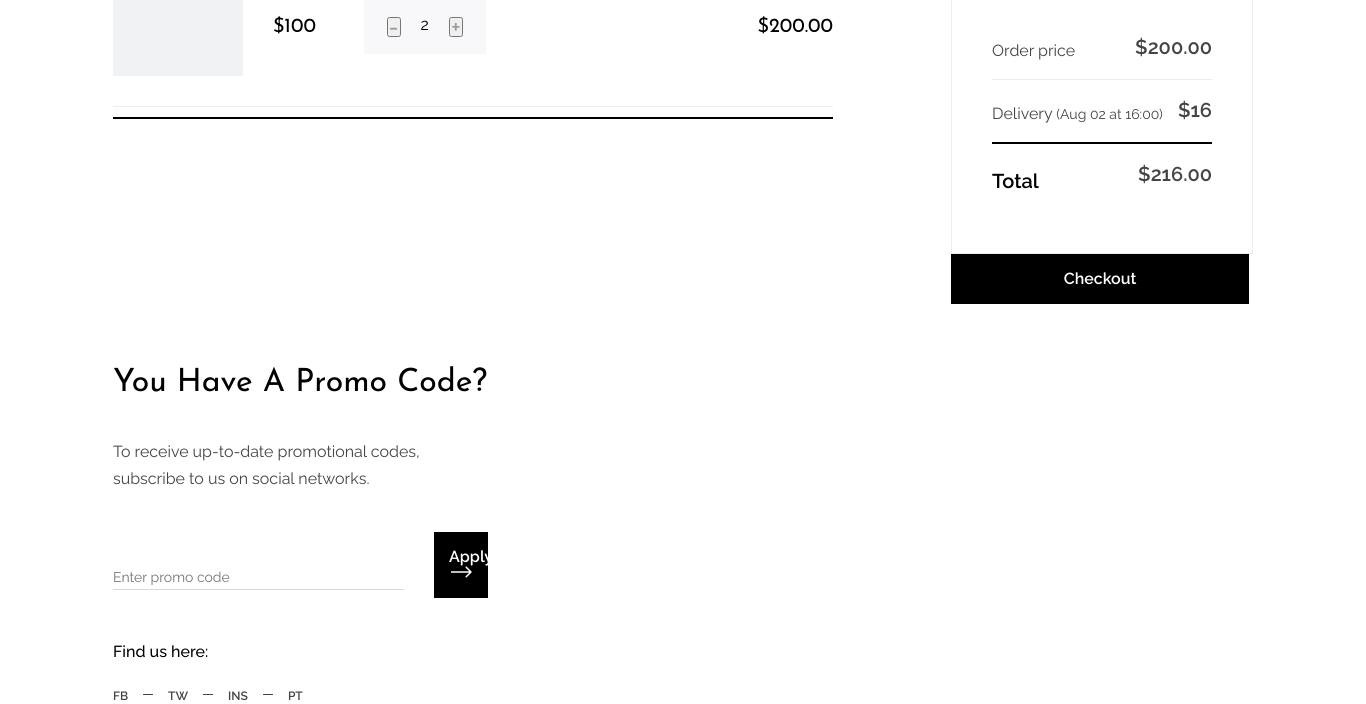
Test: Promo code check › no double promo code check
The width and height of the screenshot is (1366, 704).
(page scrolled)
Type "ilovereact" into the field with placeholder "Enter promo code" at coordinates (258, 565), box [113, 540, 404, 590]
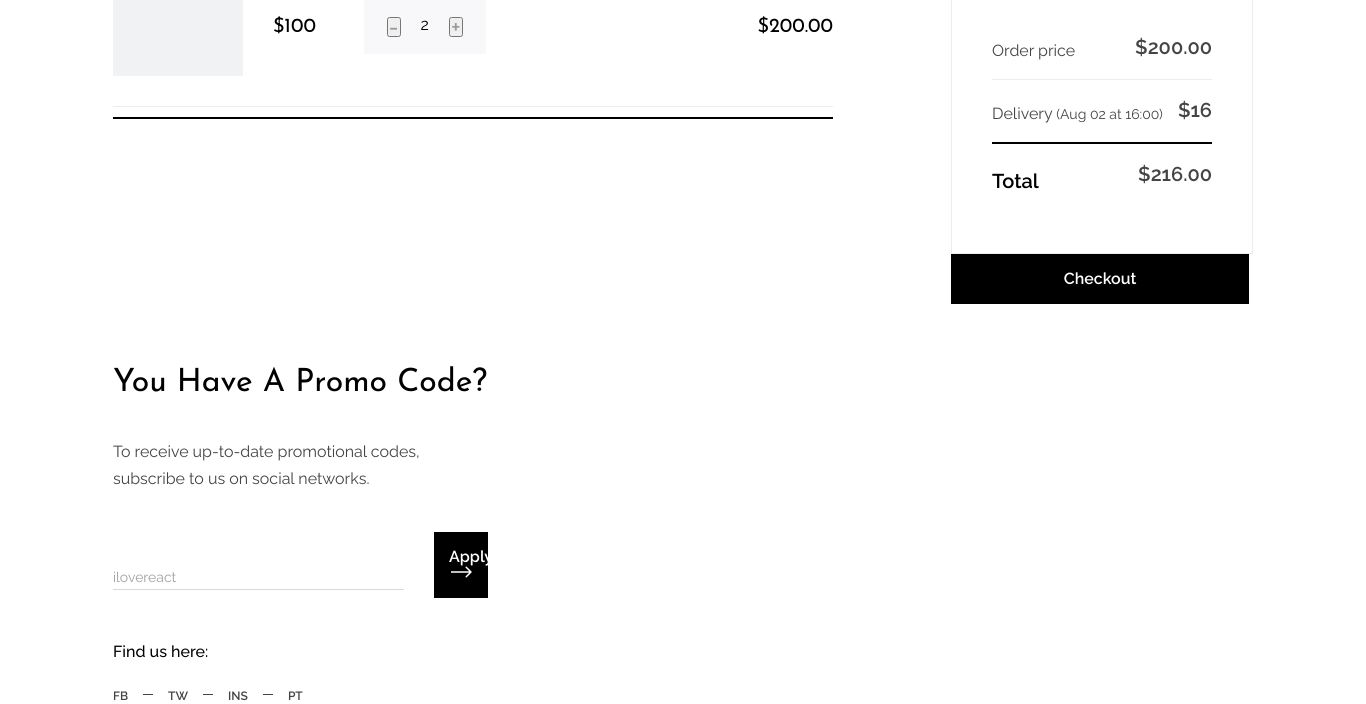
Click the button "Apply" at coordinates (461, 565), box [434, 532, 488, 598]
(page scrolled)
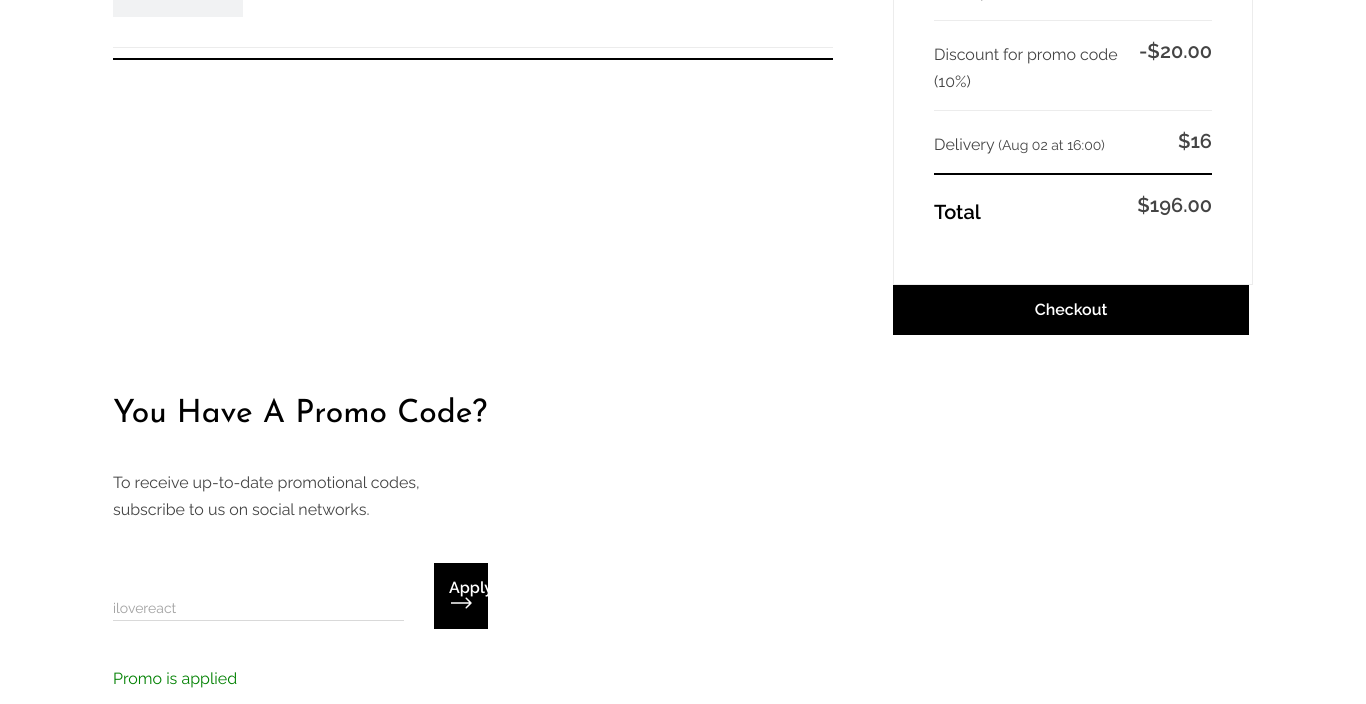
Expected: the text "Promo is applied" is shown, [113, 669, 237, 688]
Click the button "Apply" at coordinates (461, 596), box [434, 563, 488, 629]
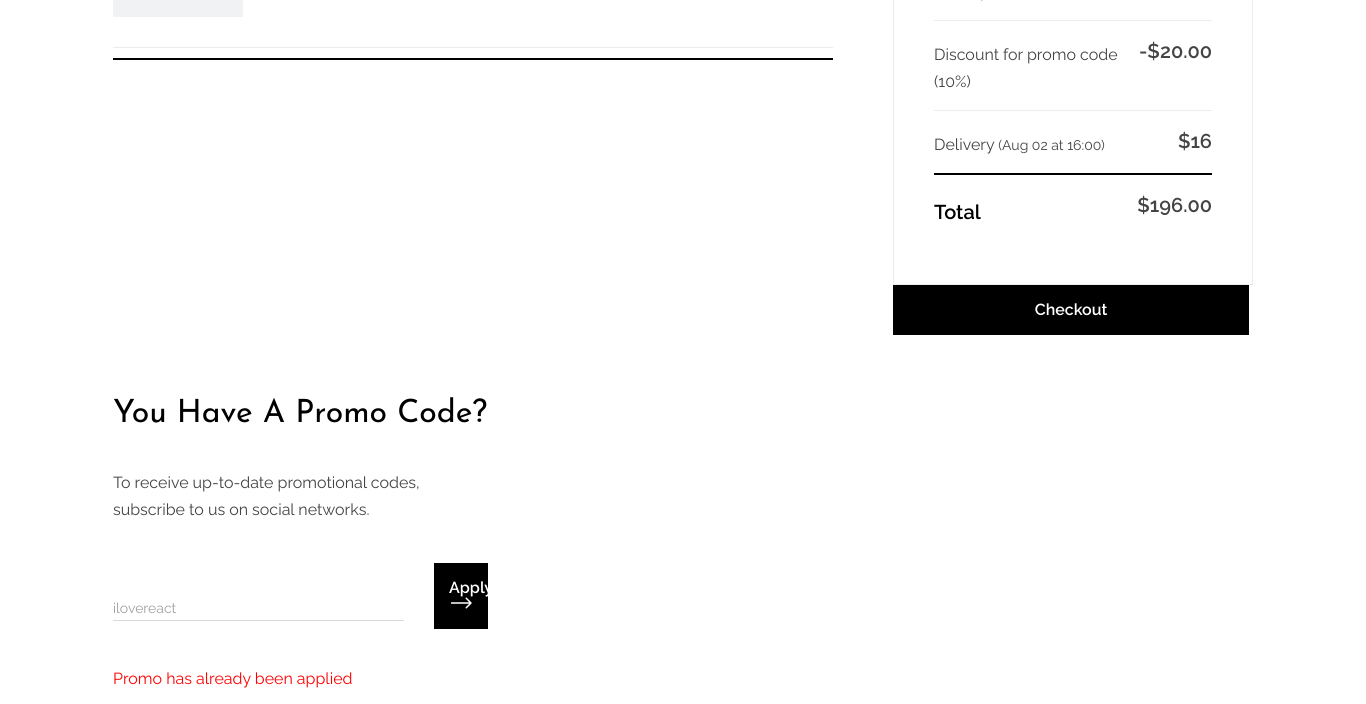
Expected: the text "Promo has already been applied" is shown, [113, 669, 352, 688]
